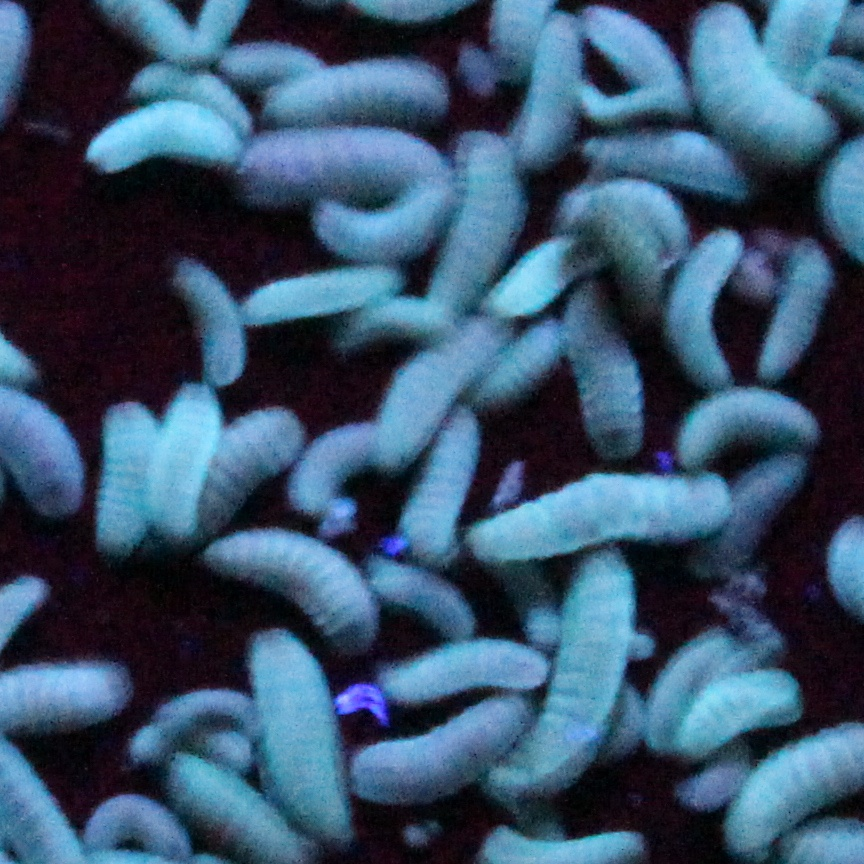larve: (484, 542, 638, 800), (242, 626, 356, 843), (465, 477, 736, 566), (193, 522, 380, 642), (353, 692, 546, 805), (433, 125, 529, 323), (247, 50, 463, 135), (656, 221, 750, 397), (79, 100, 250, 189), (232, 259, 410, 339), (378, 321, 475, 467), (162, 252, 256, 397), (569, 292, 645, 455), (672, 379, 821, 461), (377, 636, 558, 702), (414, 408, 480, 568), (96, 392, 158, 559), (218, 388, 297, 517), (151, 378, 211, 532), (684, 675, 807, 744), (297, 425, 377, 510), (485, 320, 561, 401), (86, 795, 186, 854)
